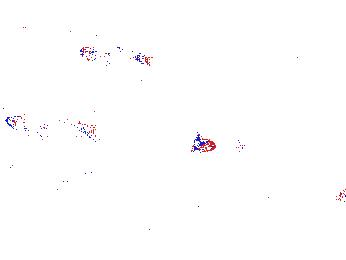X-ray fish: (333, 185, 346, 210)
red belly glassfish: (185, 136, 216, 155), (235, 131, 249, 156)
redtail glassfish: (4, 114, 105, 144), (1, 26, 86, 58), (76, 44, 151, 72), (108, 76, 147, 96)
